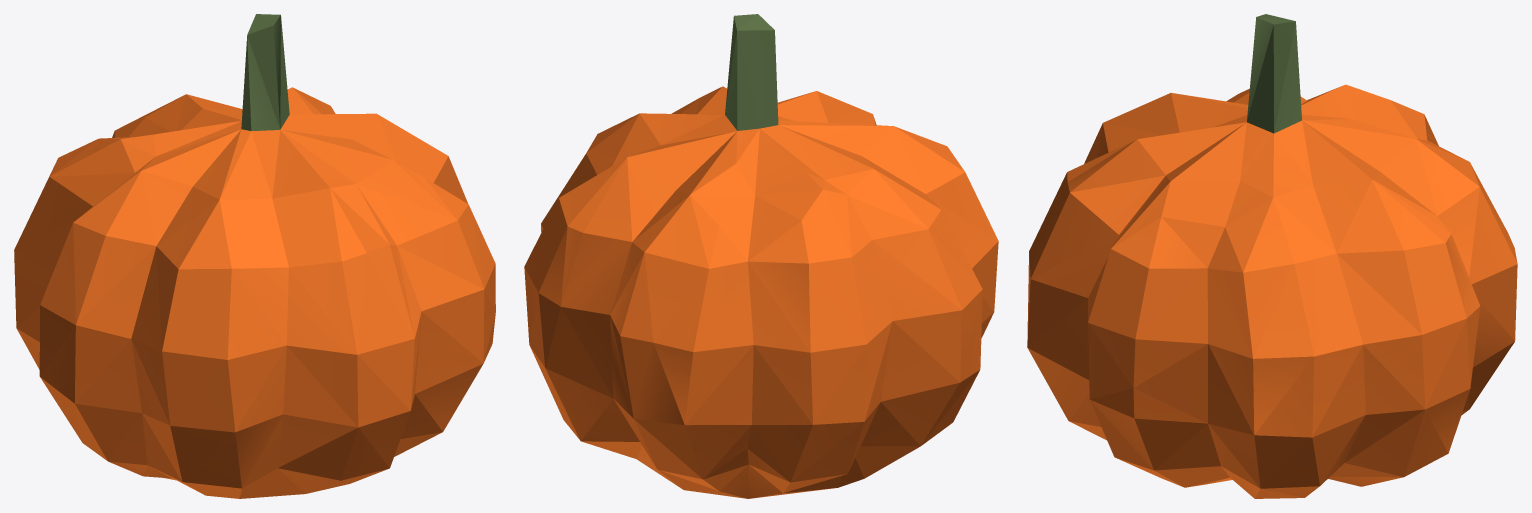
Rendered from EA_Prop_Vegetable_Pumpkin_01a.fbx.
3 views of the same model, side by side, from view 1: azimuth 30°, elevation 25°; view 2: azimuth 150°, elevation 25°; view 3: azimuth 270°, elevation 25° (orthographic). The views are drawn at different scales.
Visible parts, largest first — view 1: EA_Prop_Vegetable_Pumpkin_01a_LOD0; view 2: EA_Prop_Vegetable_Pumpkin_01a_LOD0; view 3: EA_Prop_Vegetable_Pumpkin_01a_LOD0.
Boxes of the visible parts, x1,y1,x2,y2 form: EA_Prop_Vegetable_Pumpkin_01a_LOD0: (14,14,495,498); EA_Prop_Vegetable_Pumpkin_01a_LOD0: (524,14,998,498); EA_Prop_Vegetable_Pumpkin_01a_LOD0: (1027,14,1517,498).
Size of what is drawn, in the model's own units: 0.9414 by 0.9353 by 0.9334.
